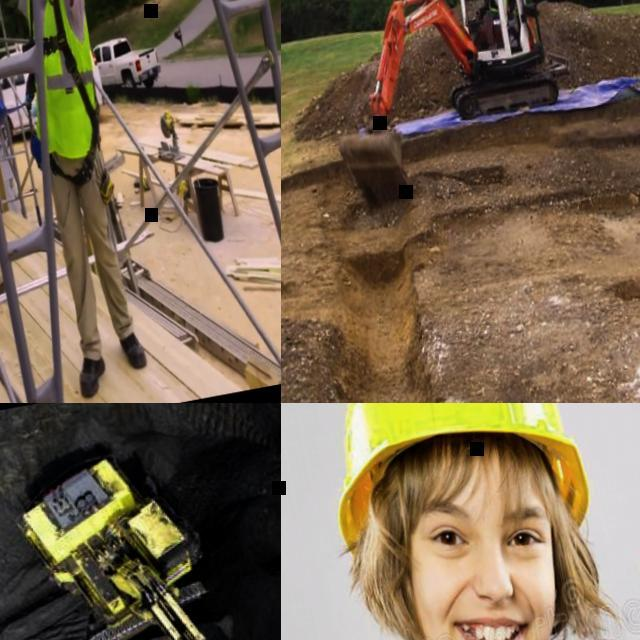helmet: (307, 403, 596, 560)
vest: (9, 0, 110, 164), (484, 0, 514, 14)
